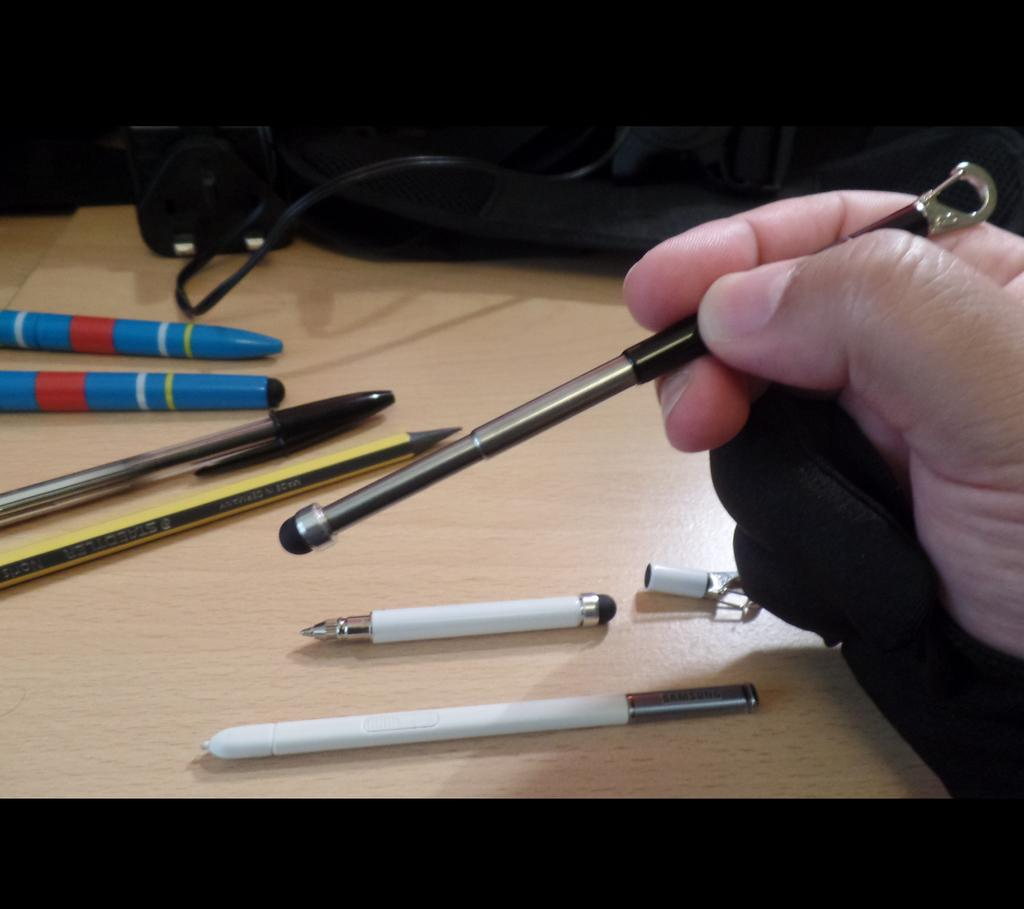pen: (0, 382, 408, 521), (205, 697, 756, 750), (284, 599, 619, 641), (4, 304, 289, 348), (0, 368, 295, 407)
